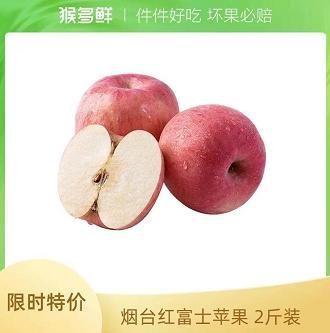apple: (154, 103, 266, 213), (59, 123, 164, 232), (74, 71, 178, 139)
